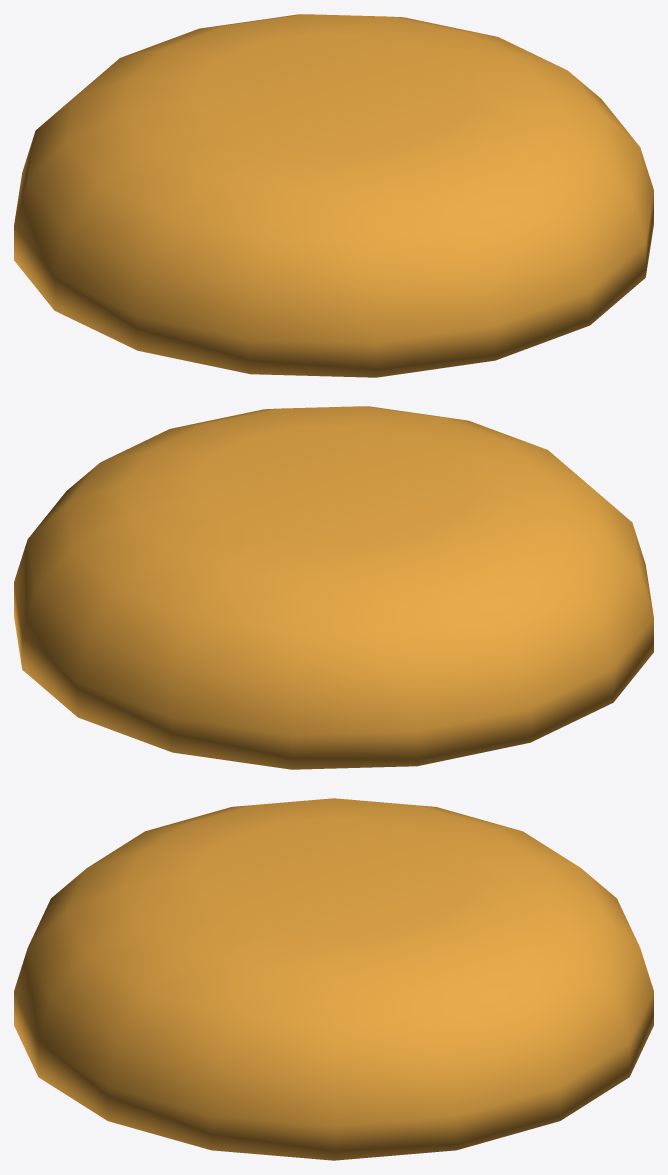
Rendered from BreadTop.fbx.
3 renders of one model, top to bottom at view 1: azimuth 30°, elevation 25°; view 2: azimuth 150°, elevation 25°; view 3: azimuth 270°, elevation 25°, orthographic.
Parts seen in each view (by area): view 1: BreadTop; view 2: BreadTop; view 3: BreadTop.
Part boxes in pixels (<box>): BreadTop: <box>14,14,653,377</box>; BreadTop: <box>14,406,653,769</box>; BreadTop: <box>14,798,653,1160</box>.
Size of the model in its own units: 200 by 50.77 by 200.
